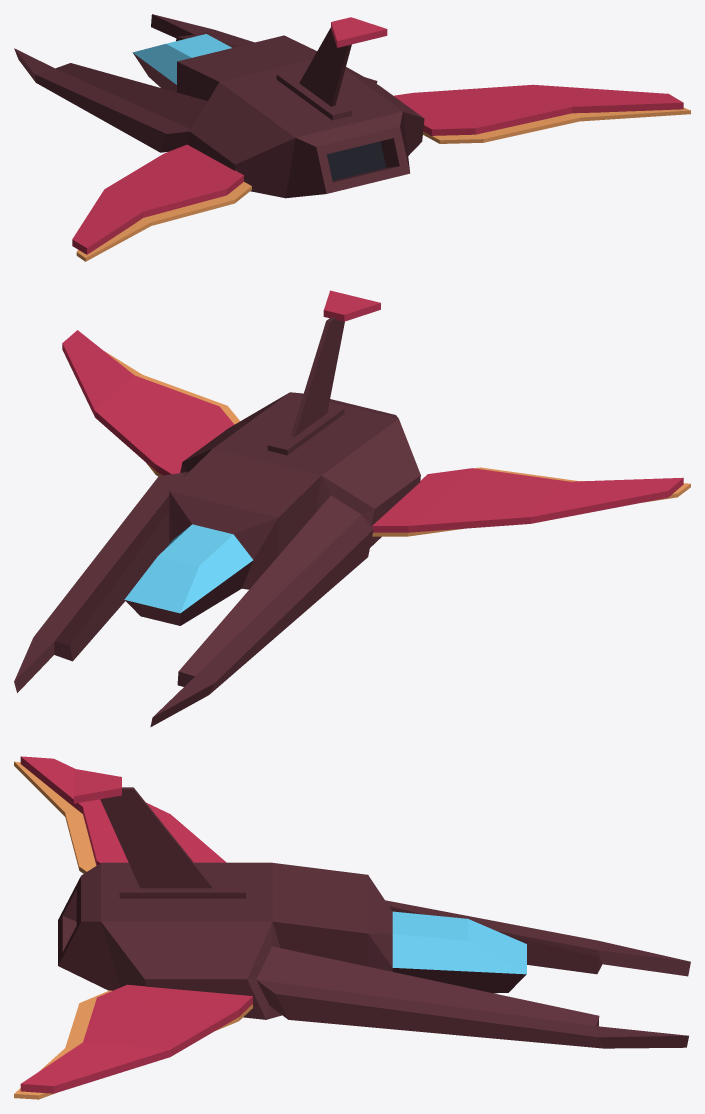
Rendered from ship_02.FBX.
3 renders of one model, top to bottom at view 1: azimuth 30°, elevation 25°; view 2: azimuth 150°, elevation 25°; view 3: azimuth 270°, elevation 25°, orthographic. The views are drawn at different scales.
Visible parts, largest first — view 1: ship_02; view 2: ship_02; view 3: ship_02.
Boxes of the visible parts, bbox=[...] form: ship_02: bbox=[14, 14, 690, 261]; ship_02: bbox=[14, 290, 690, 727]; ship_02: bbox=[14, 756, 690, 1099].
Size of the model in its own units: 256 by 83.49 by 220.
